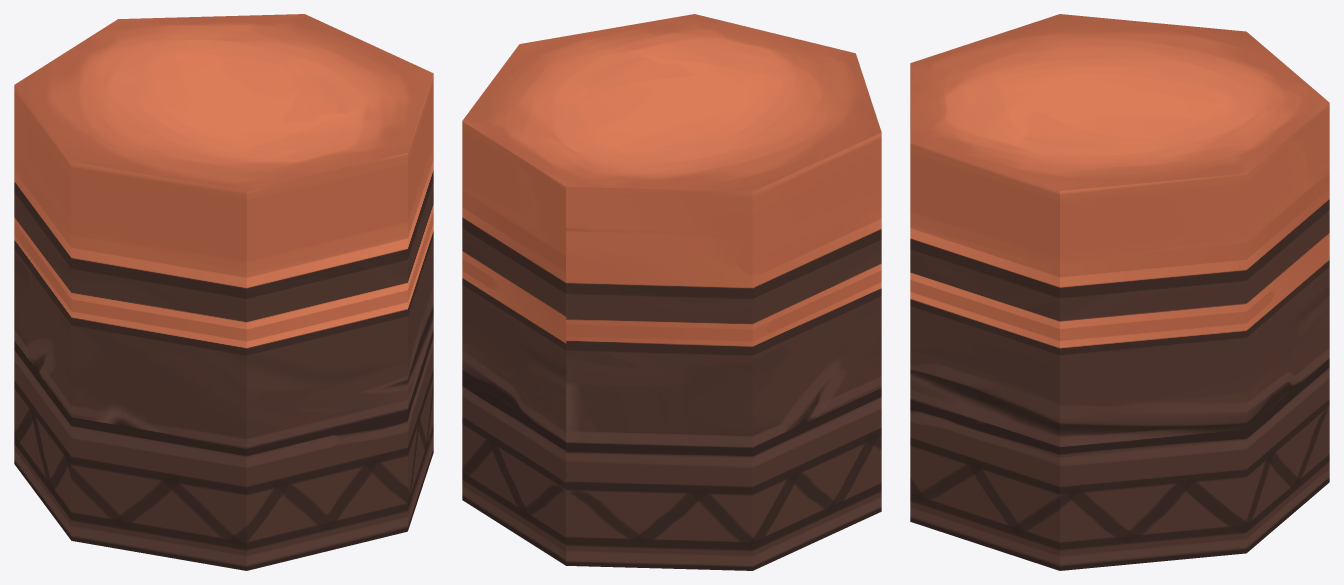
The model's file is amazoncafe_banco.glb.
3 renders of one model, left to right at view 1: azimuth 30°, elevation 25°; view 2: azimuth 150°, elevation 25°; view 3: azimuth 270°, elevation 25°, orthographic.
Visible parts, largest first — view 1: Banco; view 2: Banco; view 3: Banco.
Boxes of the visible parts, bbox=[...] form: Banco: bbox=[14, 14, 433, 570]; Banco: bbox=[462, 14, 881, 570]; Banco: bbox=[910, 14, 1329, 570].
Bounding box in the file's own units: 0.5 × 0.5 × 0.5.
Materials: 1 (1 with a texture image).
